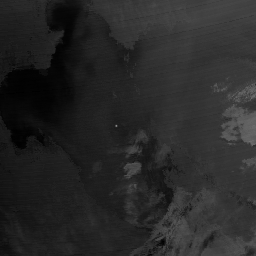Target: (114, 123, 119, 128)
